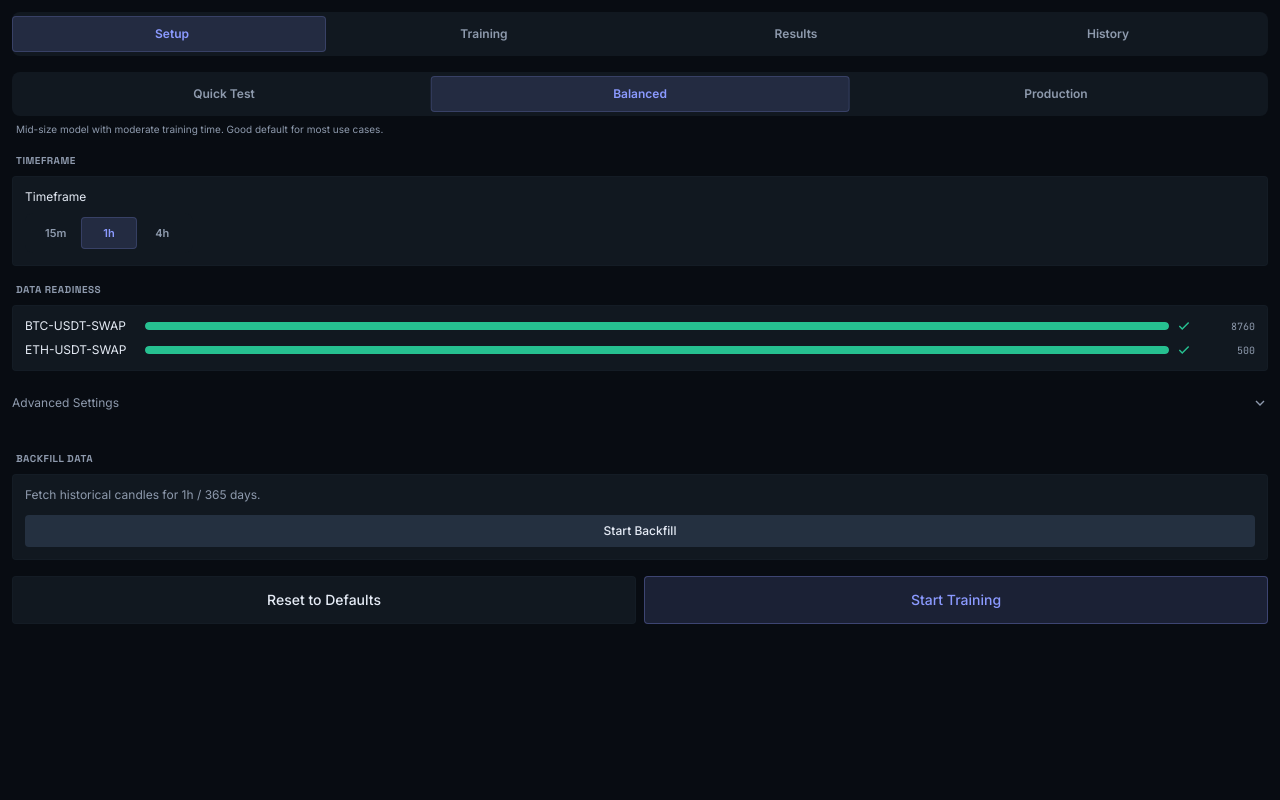
Test: MLTrainingView › Results Tab › should show empty state when no completed runs exist
Click the button "Results": (796, 34) [640,16,952,52]
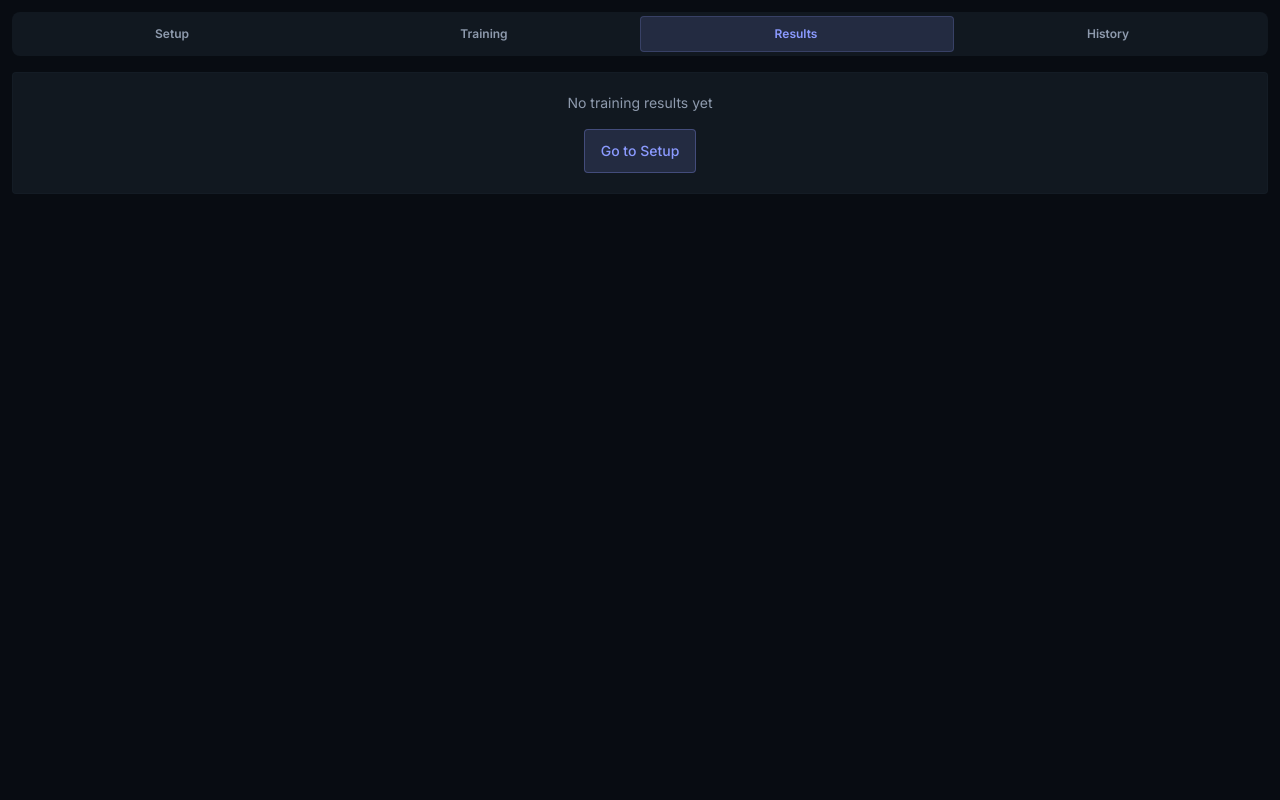
Expected: the text "No training results yet" is shown, [568,94,712,111]
